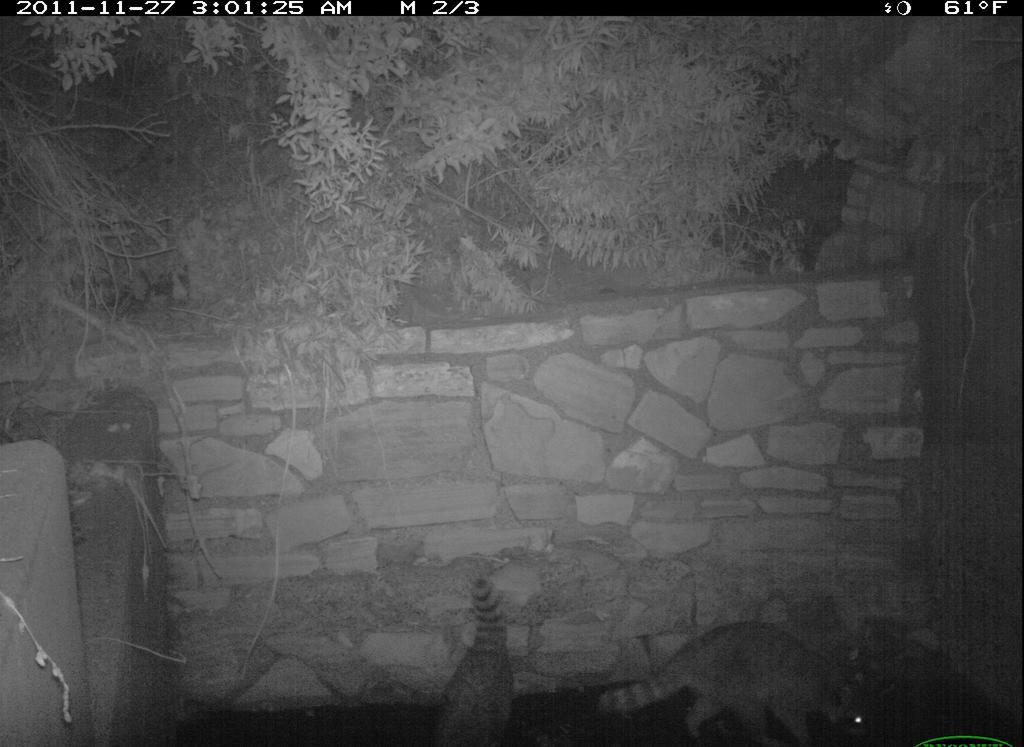raccoon: (585, 605, 879, 745), (422, 568, 529, 744)
